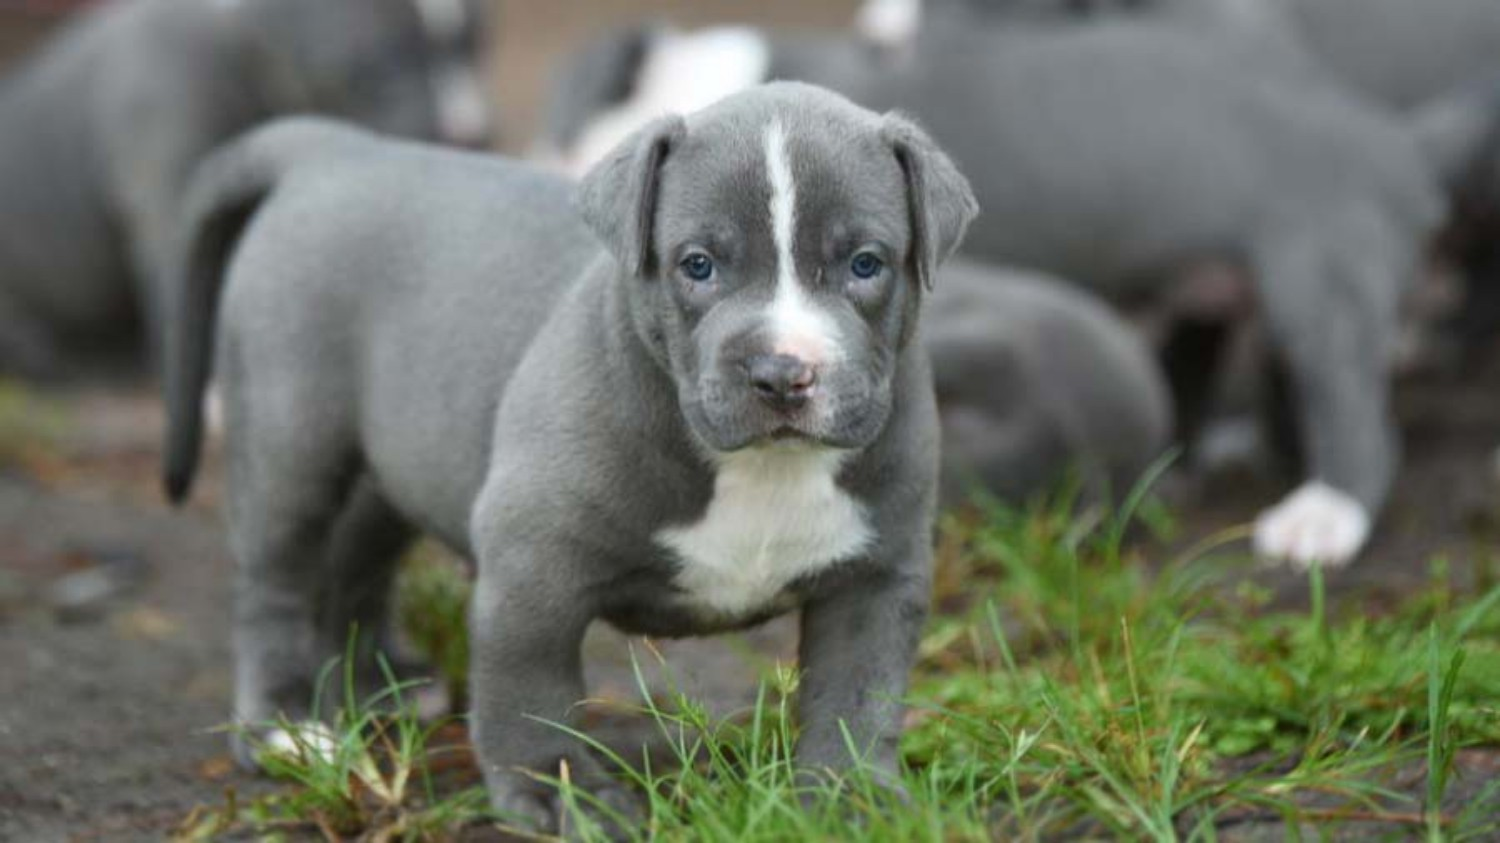am_pit_bull_terrier: (158, 75, 984, 842)
